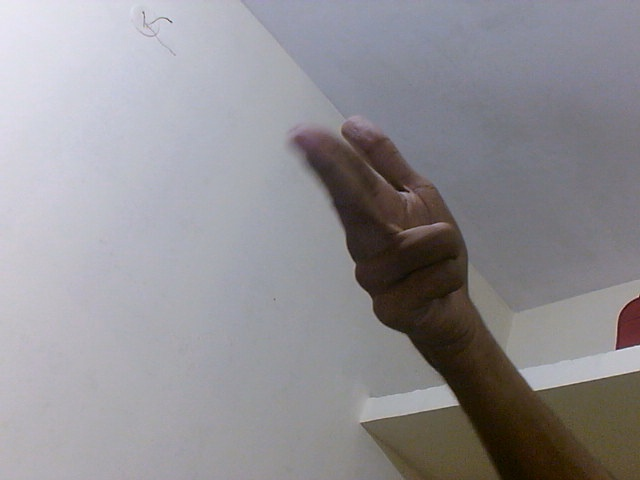hand: (293, 114, 489, 344)
